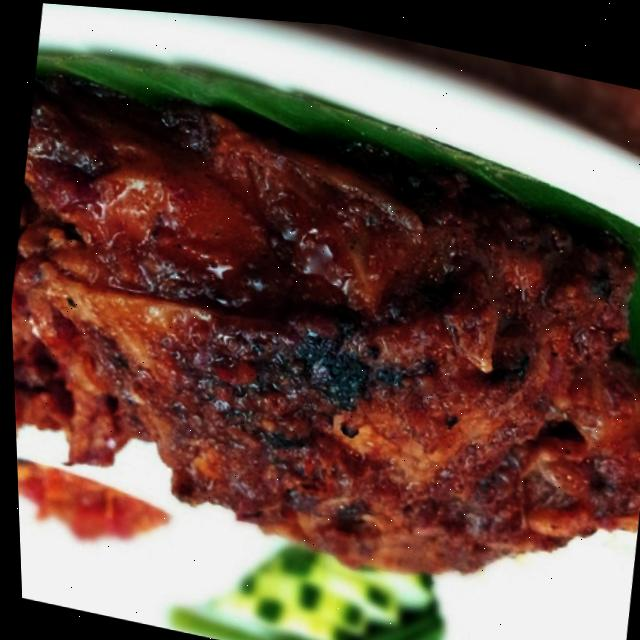鸡肉料理 含炸鸡: (1, 30, 640, 636)
